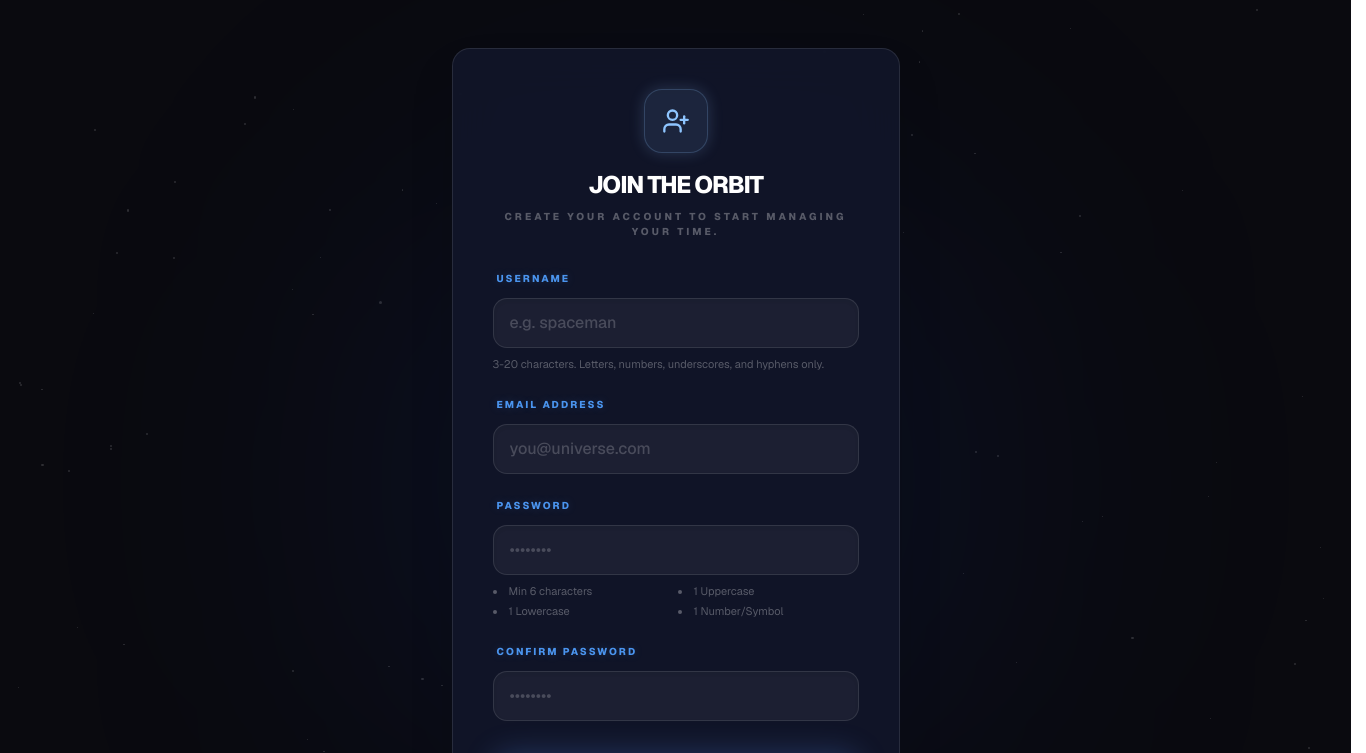
it: RegisterPage Component › shows error if passwords do not match
Type "testuser" into the field with placeholder "e.g. spaceman".
click(676, 323); type("testuser")  # box [492,298,858,348]
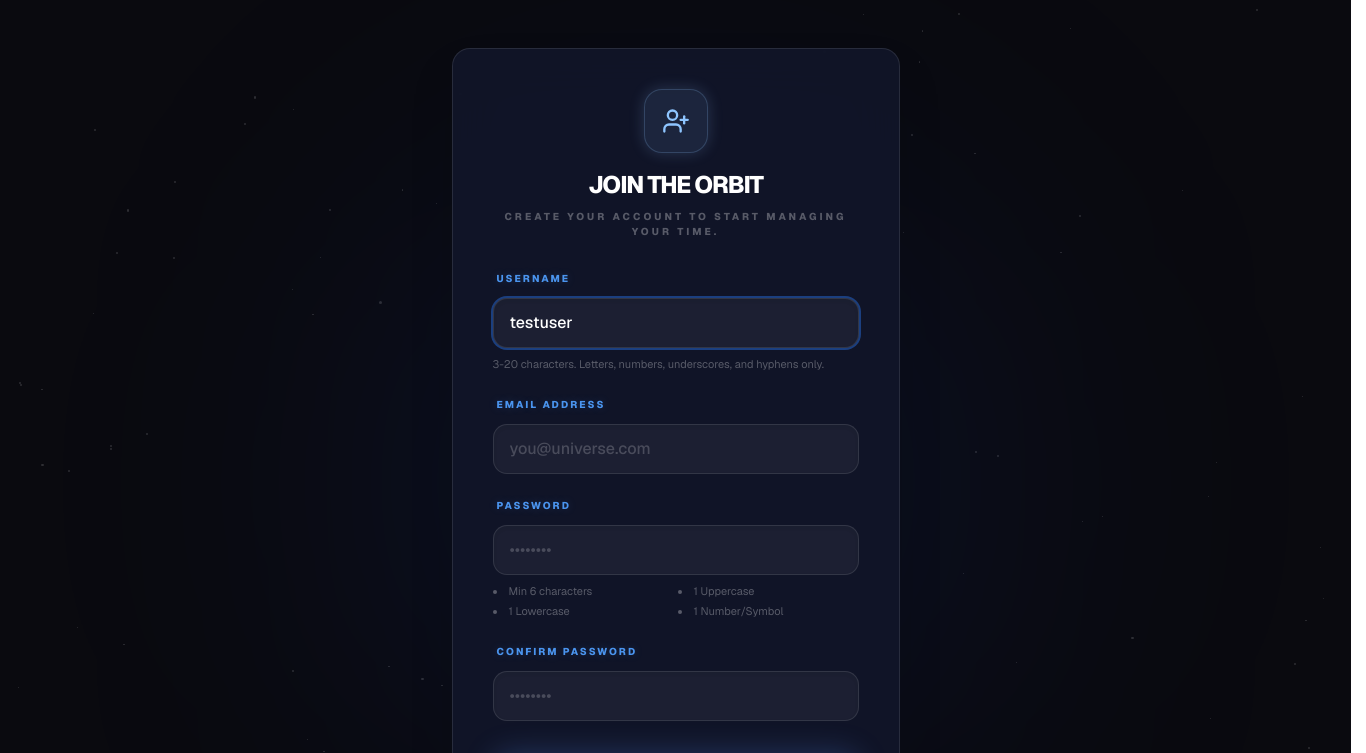
Type "test@example.com" into the field with placeholder "you@universe.com".
click(676, 448); type("test@example.com")  # box [492,424,858,474]
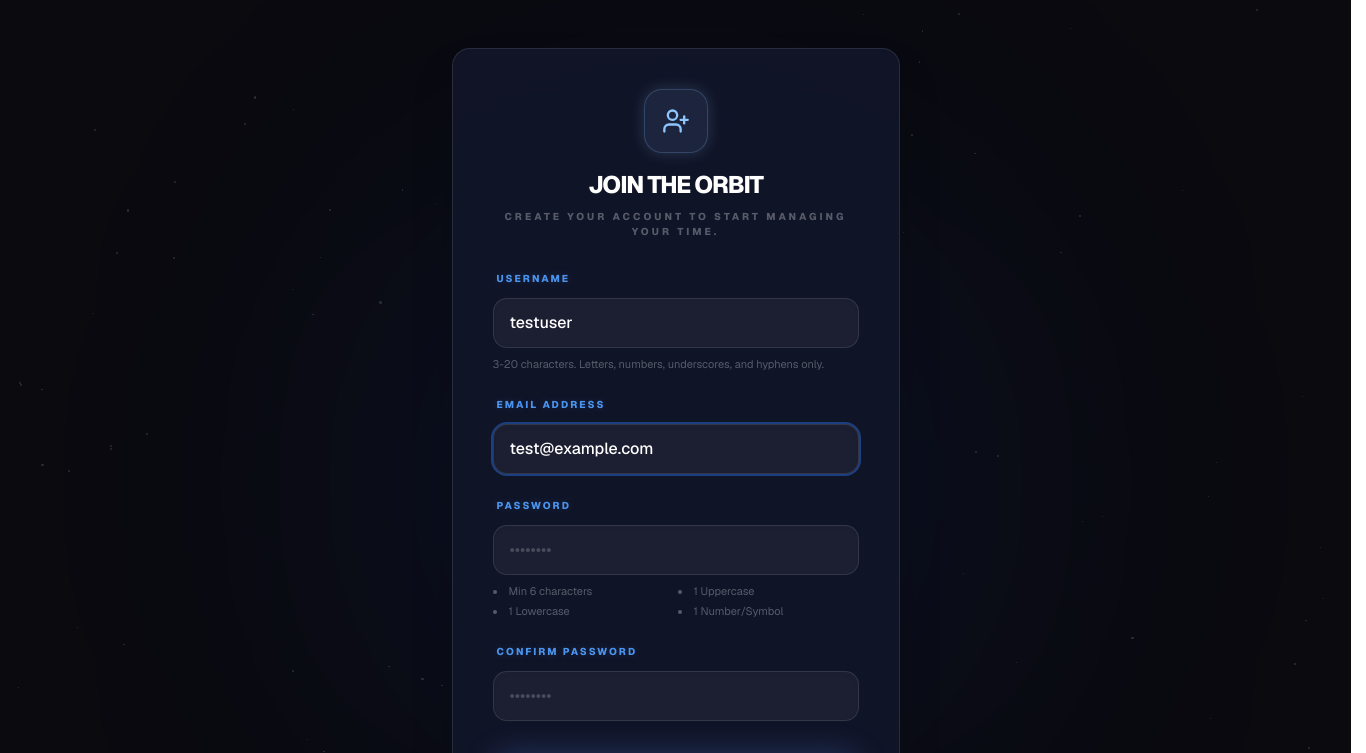
Type "Password123" into the 1st password field with placeholder "••••••••".
click(676, 550); type("Password123")  # box [492,524,858,574]
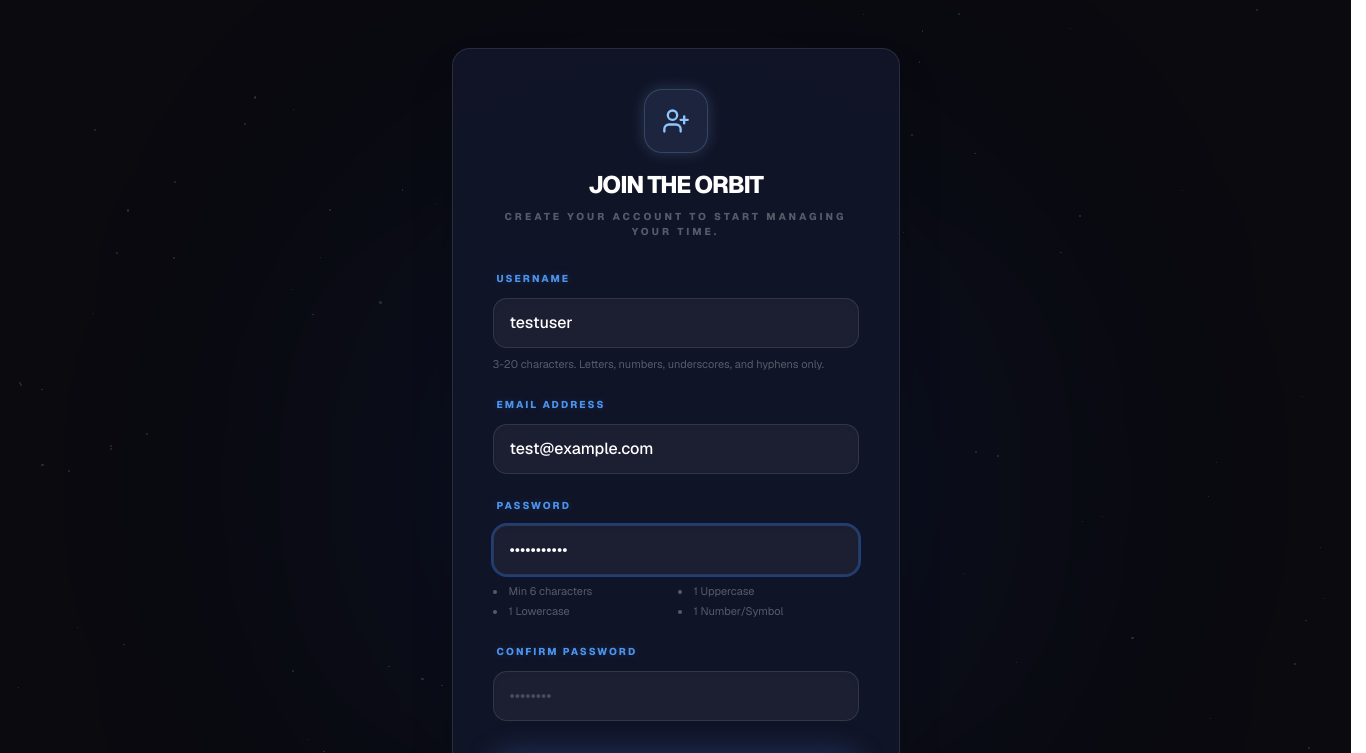
Type "Different123" into the password field with placeholder "••••••••".
click(676, 696); type("Different123")  # box [492,670,858,720]
(page scrolled)
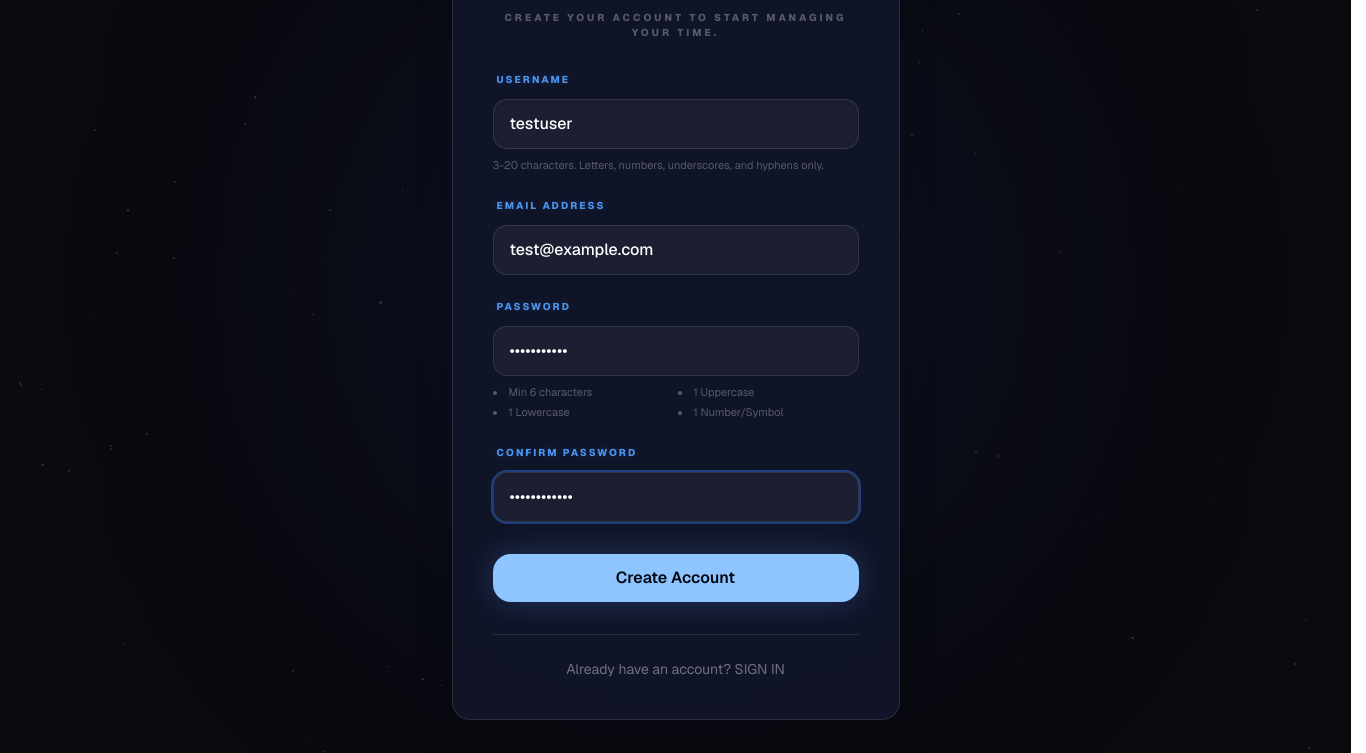
Click the button "Create Account".
click(676, 578)  # box [492,554,858,602]
(page scrolled)
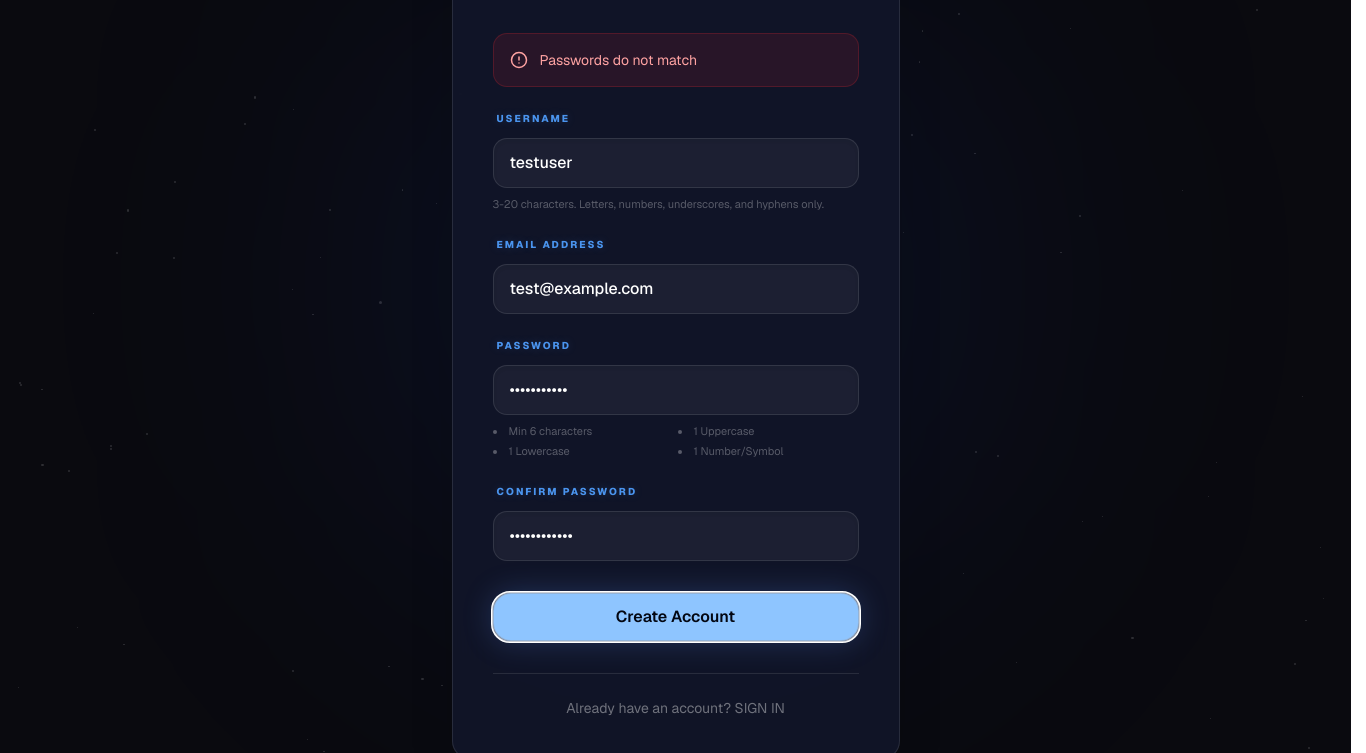
Check: the text "Passwords do not match" is shown, box [540,50,697,70]
